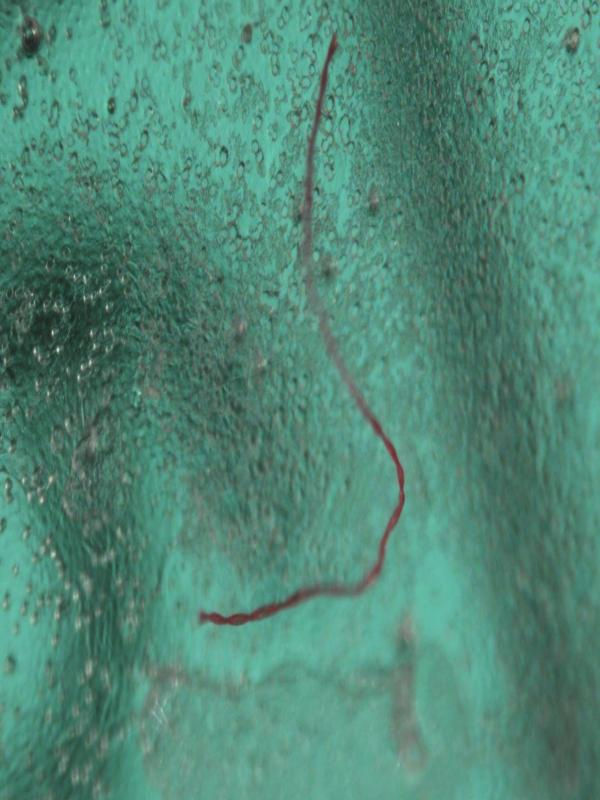microplastic: (2, 3, 598, 798), (196, 33, 407, 632)
